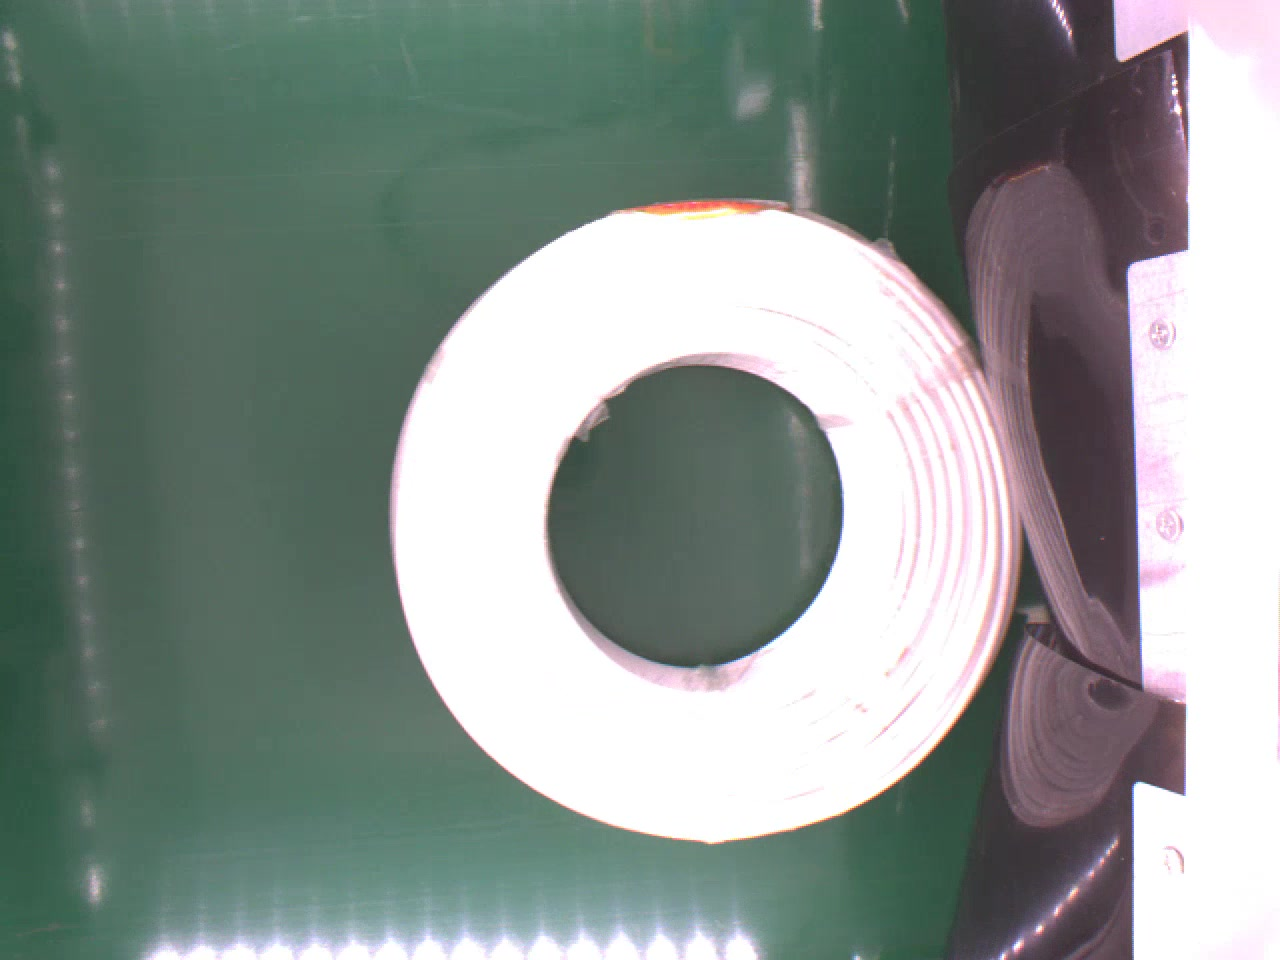white: (384, 194, 1023, 843)
